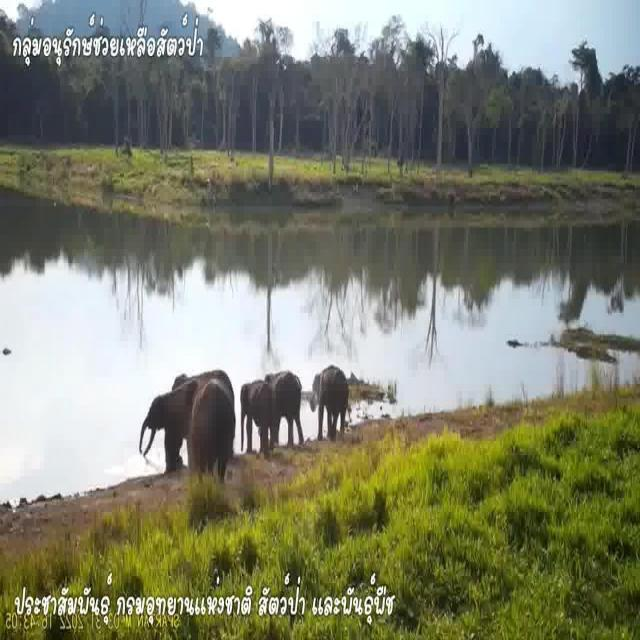Elephant: (143, 374, 189, 460), (268, 361, 303, 438), (309, 360, 351, 423), (236, 372, 272, 442)
